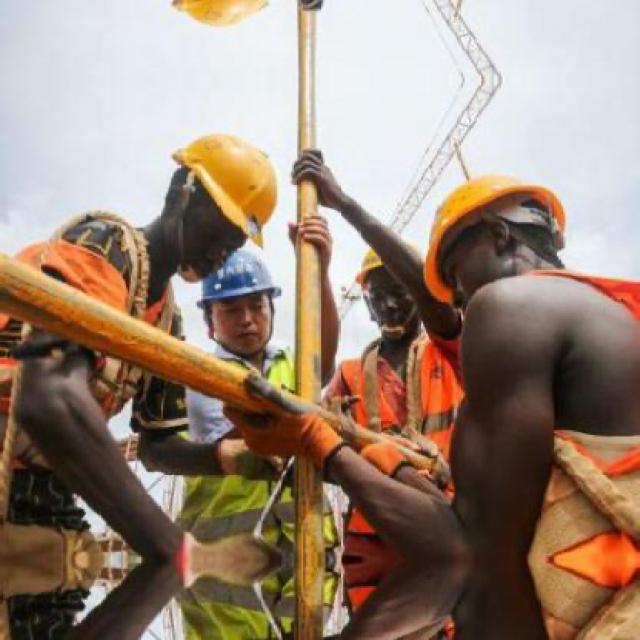Reflective-Jacket: (1, 230, 192, 490), (455, 267, 637, 538), (177, 336, 315, 546), (331, 333, 466, 528)
Safety-Helmet: (408, 160, 582, 278), (155, 123, 288, 247), (192, 242, 290, 313), (343, 235, 414, 298)
